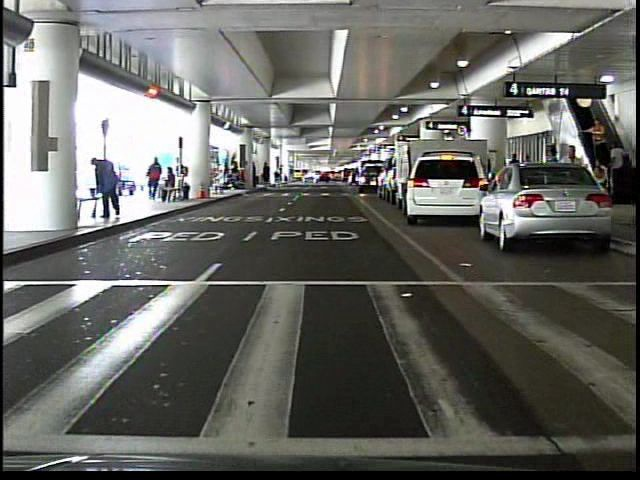person: (91, 152, 126, 223), (582, 117, 609, 168), (608, 139, 628, 192), (213, 165, 228, 199), (275, 162, 289, 190)
